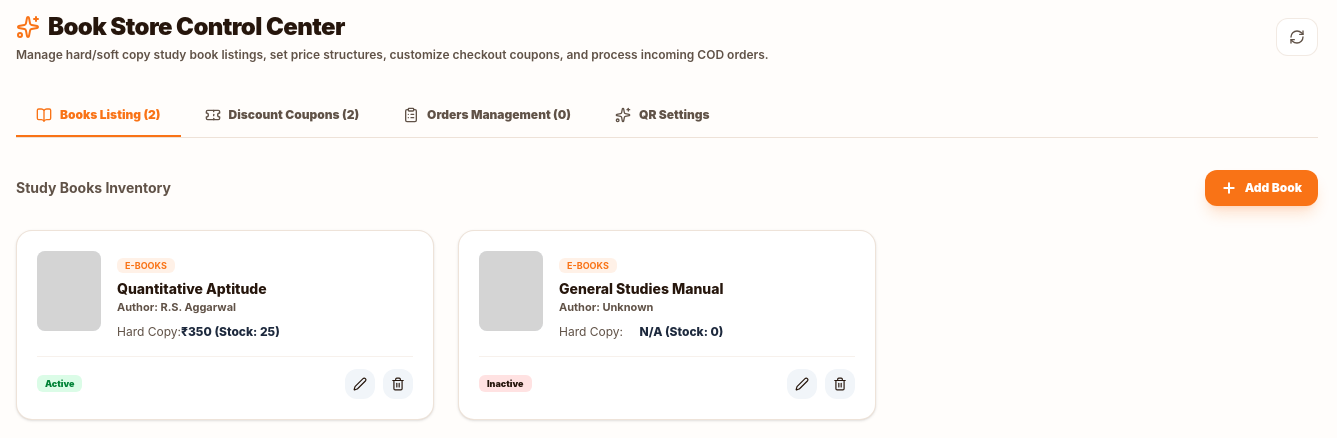
BookStorePage › shows the empty state when there are no orders
The width and height of the screenshot is (1337, 438).
Click the button "Orders Management (0)" at (487, 116), box [383, 95, 591, 137]
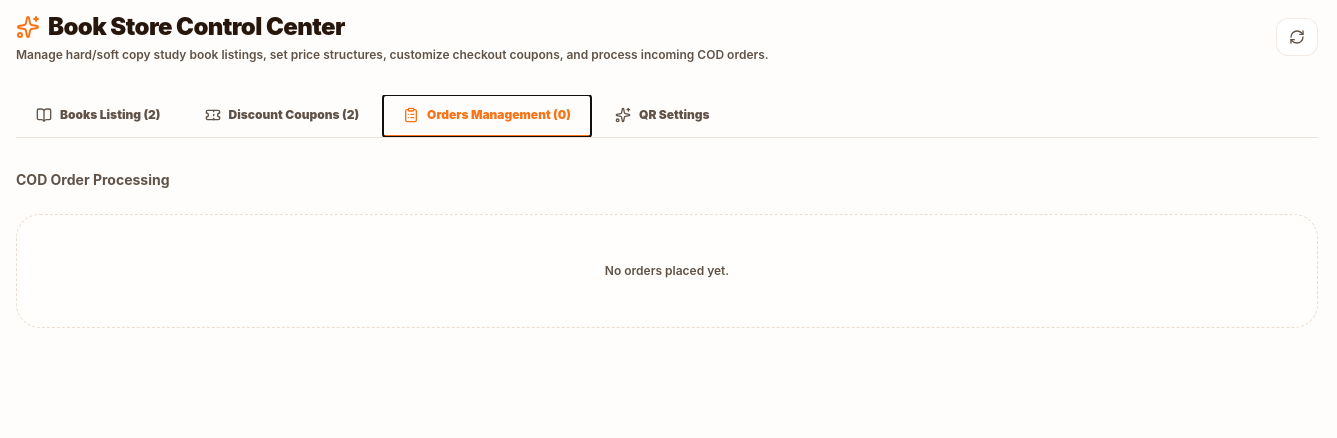
Check: the text "No orders placed yet." is shown, box [605, 263, 729, 278]
